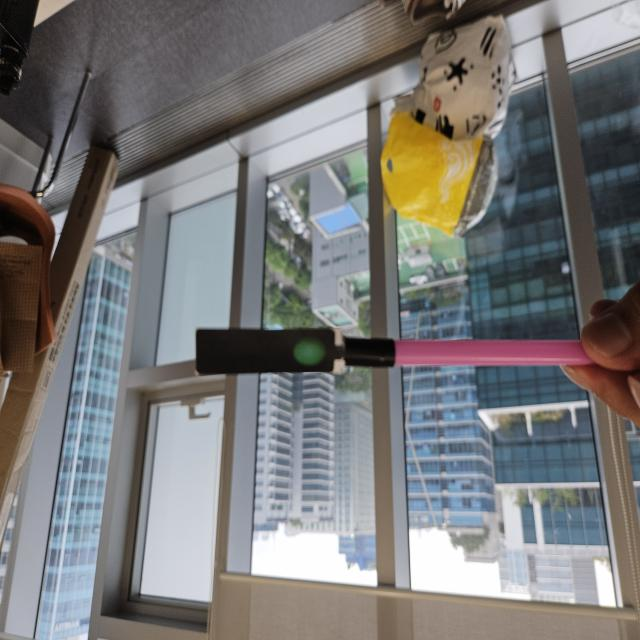traffic light: (195, 328, 346, 378)
